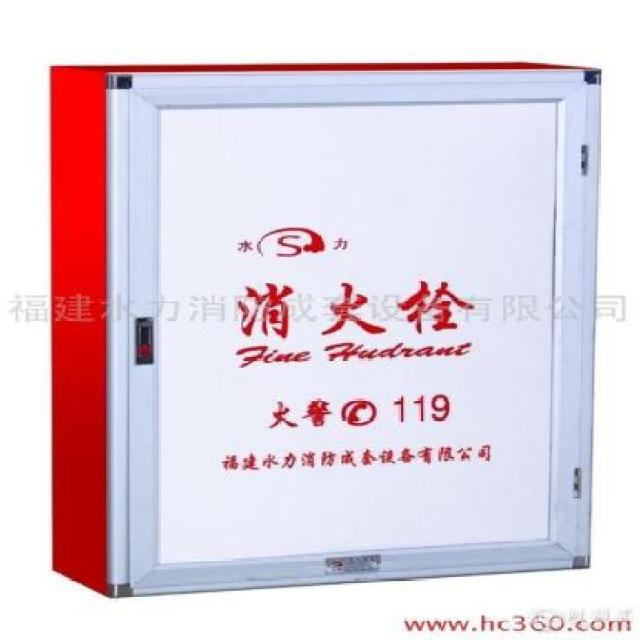firehydrant: (43, 57, 609, 605)
